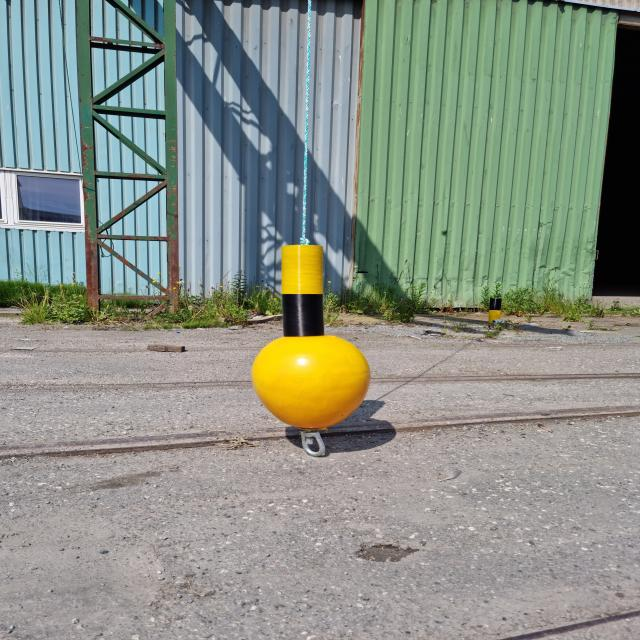west: (253, 244, 368, 430)
